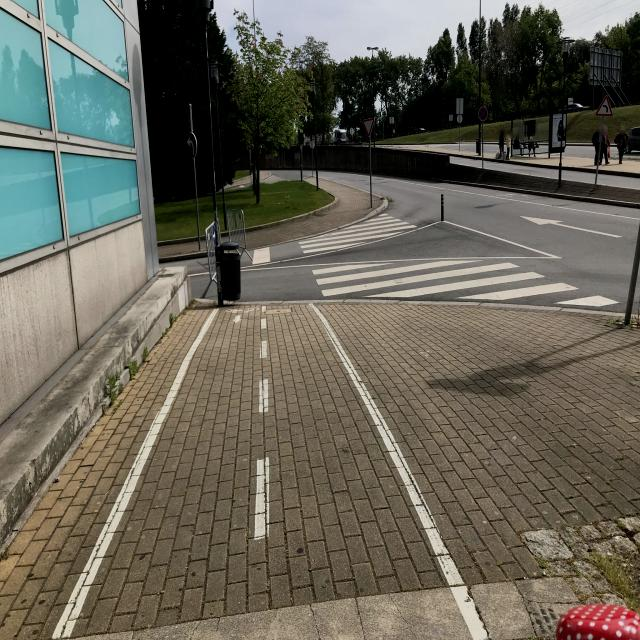car: (553, 601, 640, 640), (626, 124, 640, 154)
